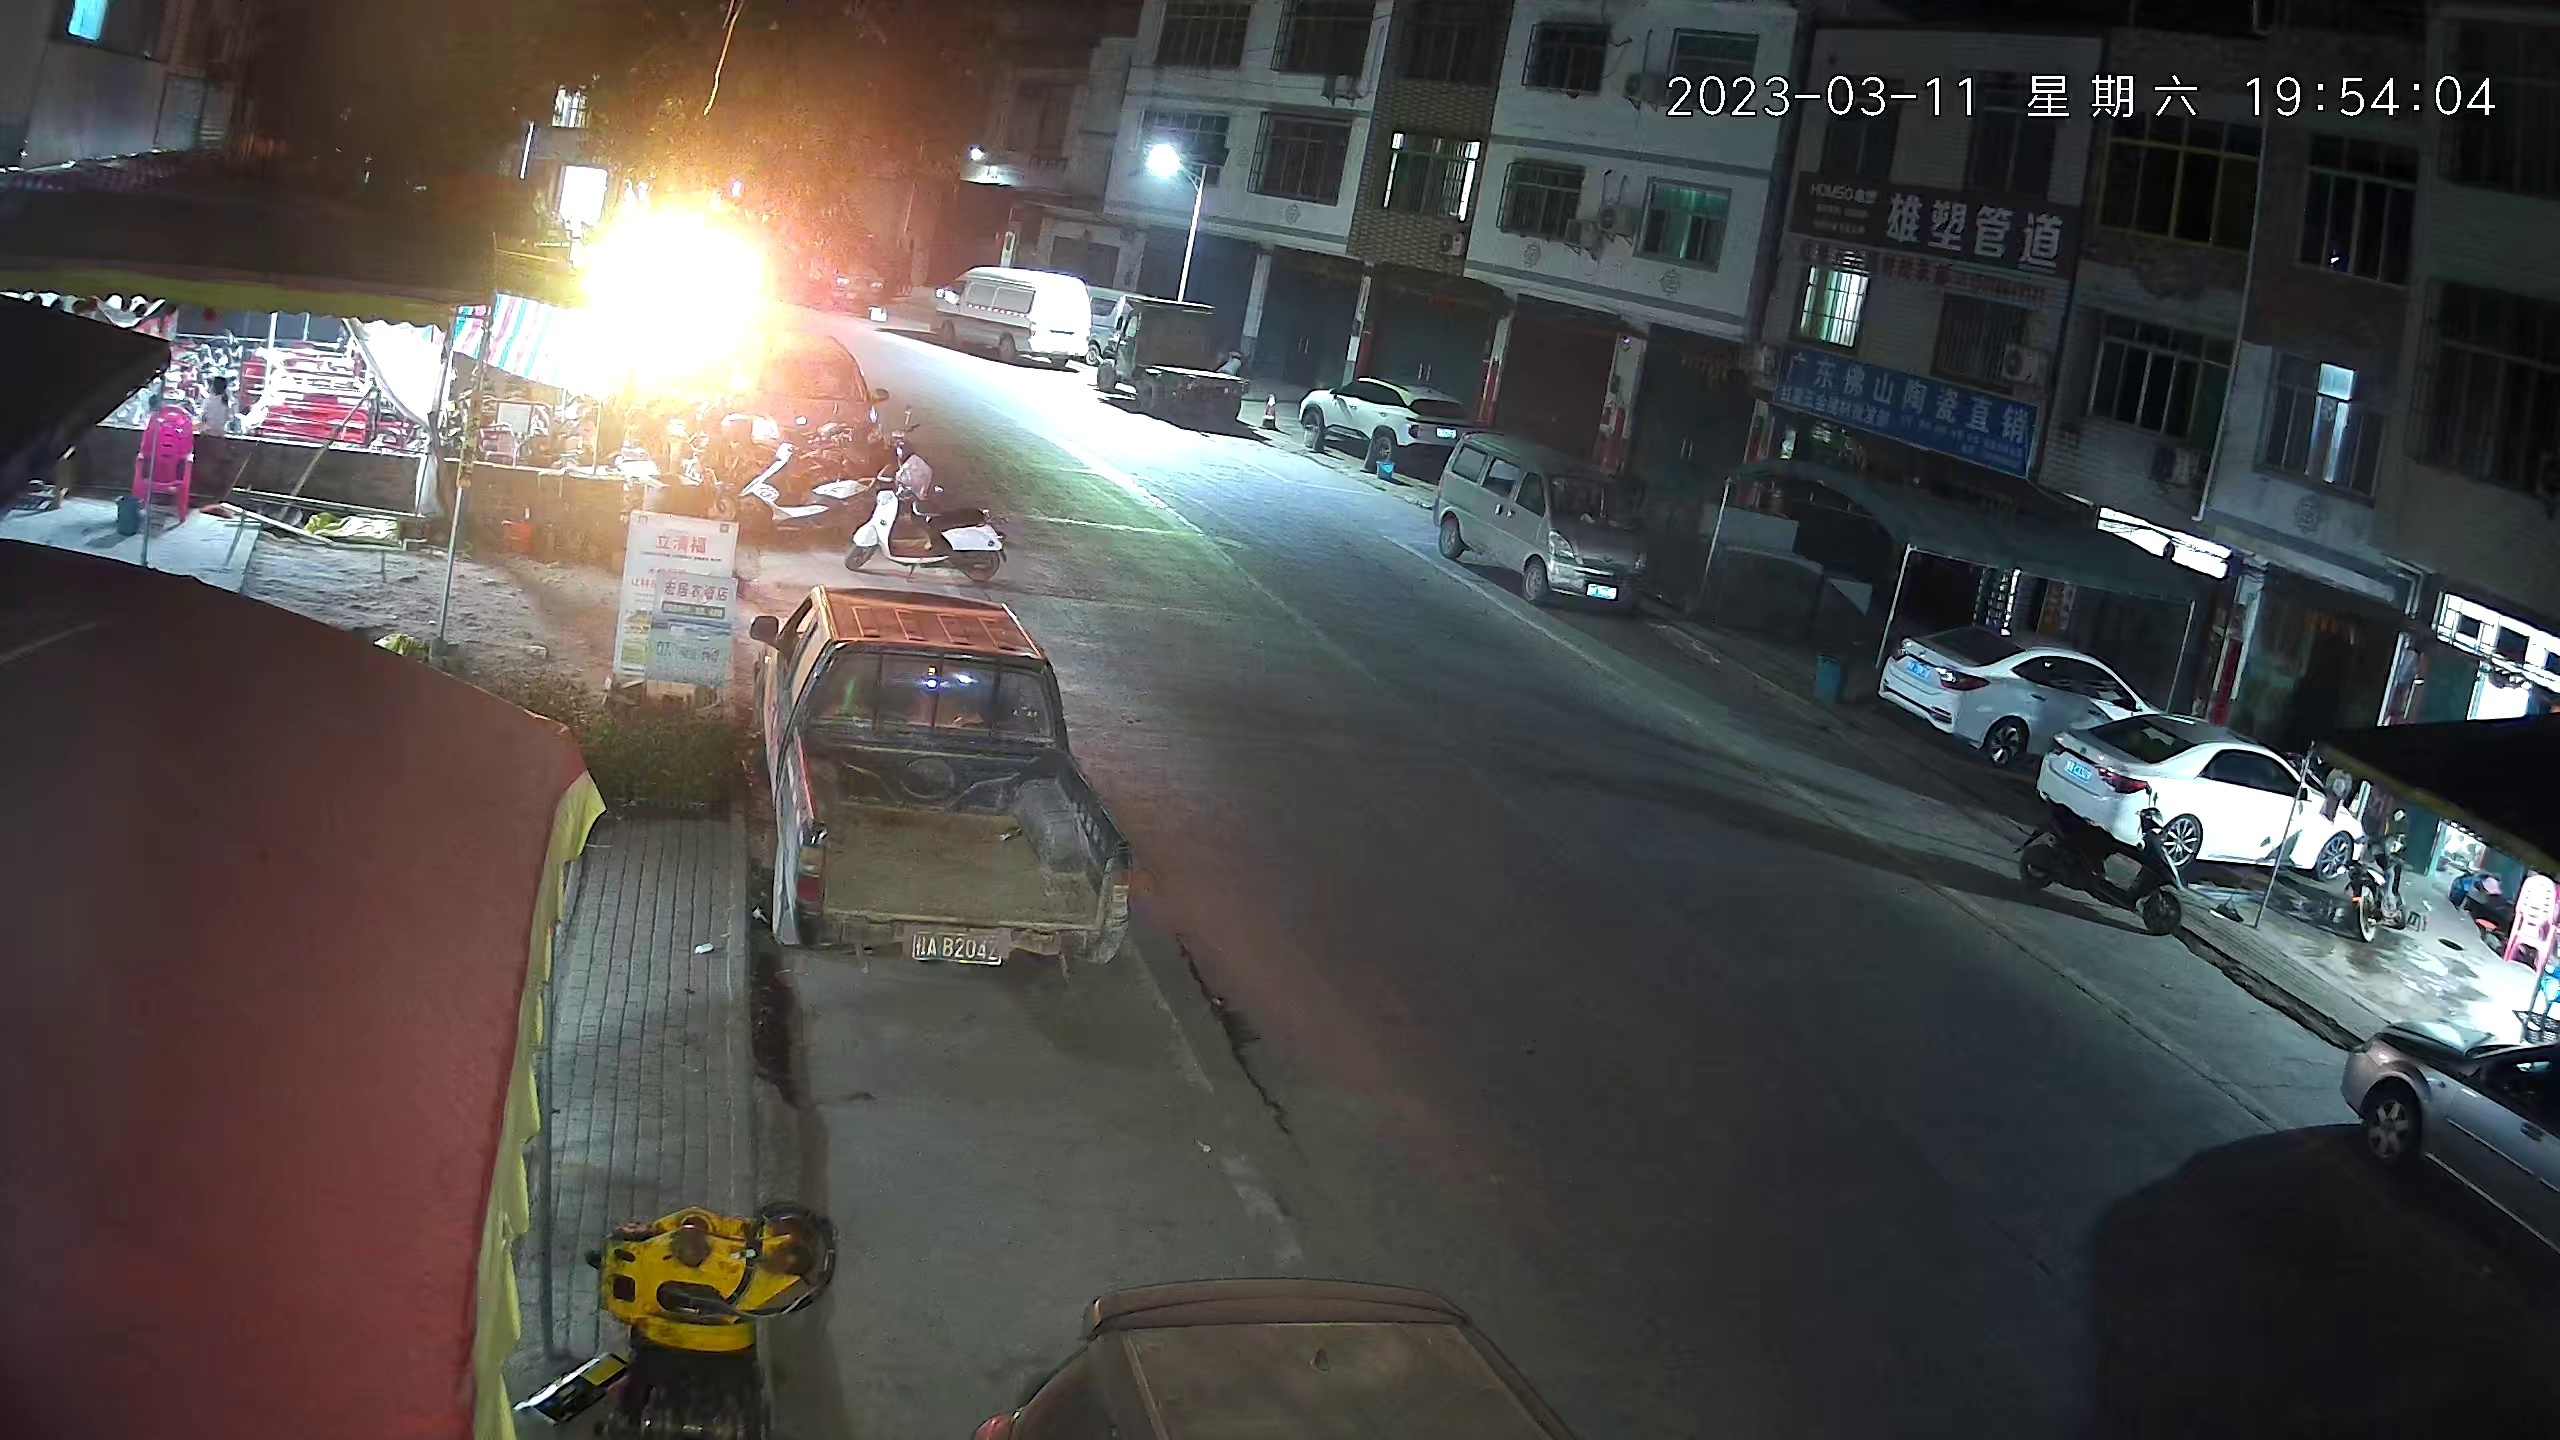motorcycle: (2023, 799, 2185, 939), (852, 464, 1004, 580), (750, 444, 849, 534), (2353, 819, 2414, 954)
person: (195, 372, 235, 437)
pickup: (750, 578, 1132, 984)
sedan: (978, 1298, 1575, 1440), (2367, 1009, 2560, 1257), (2057, 707, 2334, 873), (1894, 607, 2142, 762)
suv: (1307, 373, 1460, 477), (753, 330, 877, 437)
tricycle: (1110, 299, 1243, 429)
truck: (935, 264, 1089, 368)
van: (1437, 432, 1655, 632)
